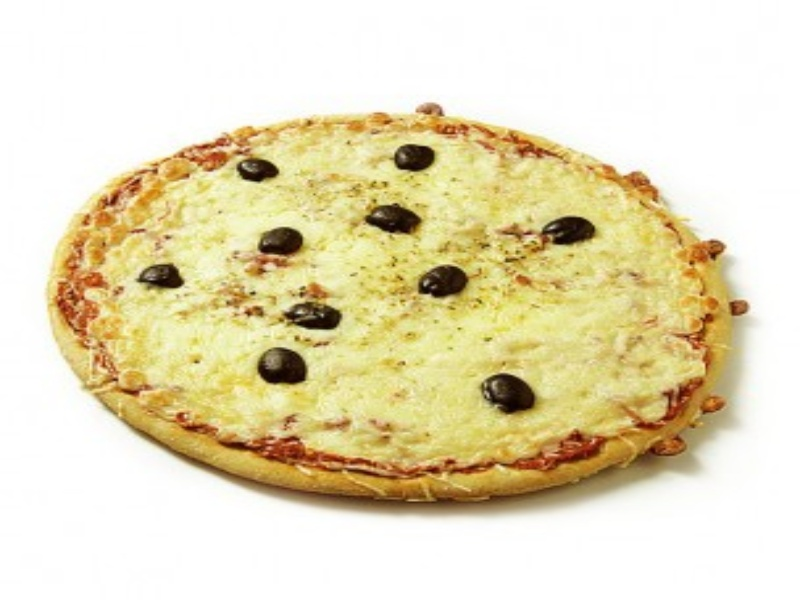olive noir: (475, 373, 545, 413), (358, 201, 427, 237), (255, 346, 313, 387), (285, 294, 346, 332), (412, 263, 476, 297), (249, 224, 310, 259), (541, 215, 599, 248), (386, 143, 437, 174), (138, 259, 182, 293), (234, 158, 284, 184)
